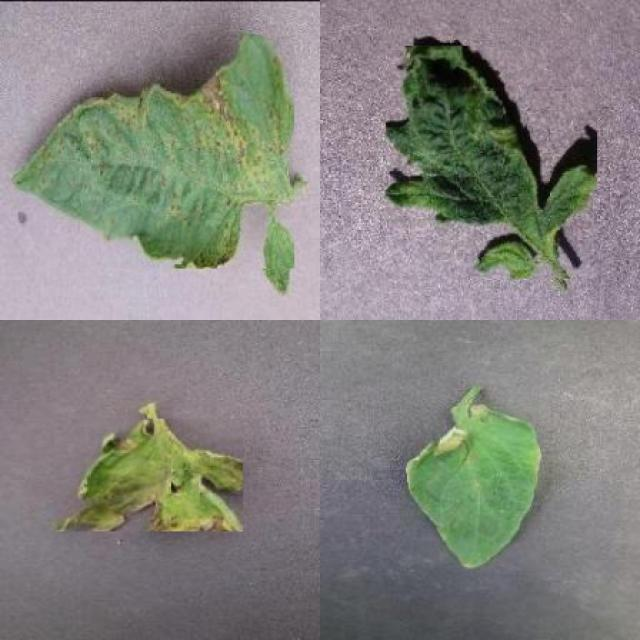Late Blight: (406, 403, 541, 571), (54, 418, 242, 532)
Mosaic Virus: (386, 45, 598, 278)
Septoria: (9, 34, 294, 269)
